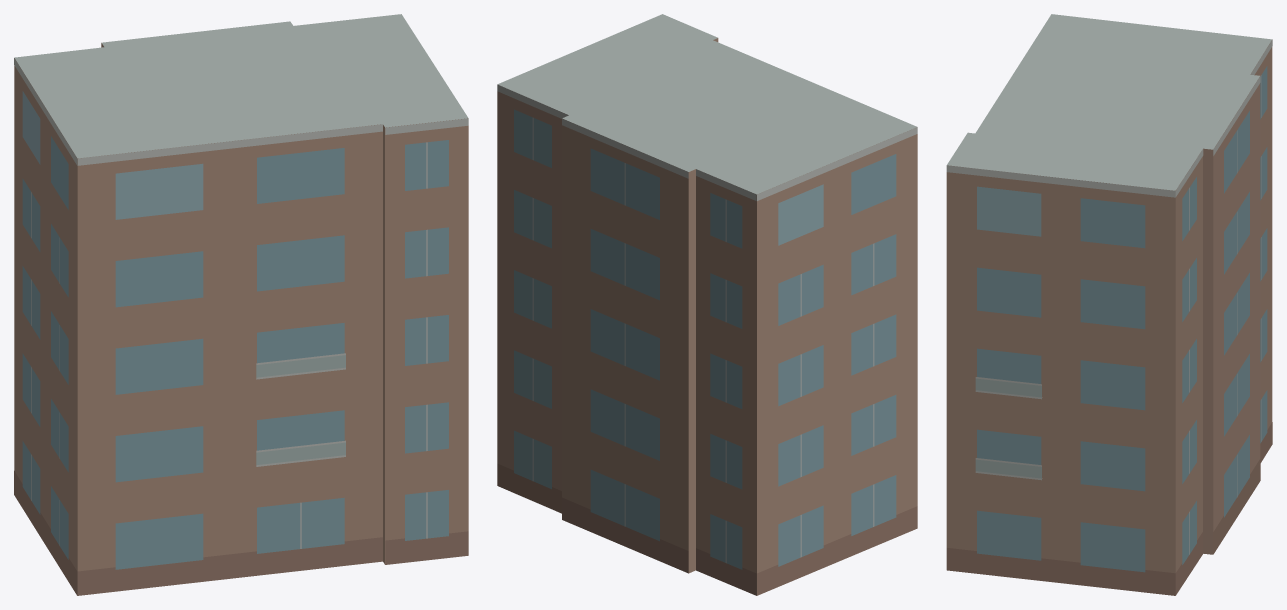
The model's file is survey-upis-33014024.glb.
3 renders of one model, left to right at view 1: azimuth 30°, elevation 25°; view 2: azimuth 150°, elevation 25°; view 3: azimuth 270°, elevation 25°, orthographic. The views are drawn at different scales.
Visible parts, largest first — view 1: survey-upis-33014024.tmp; view 2: survey-upis-33014024.tmp; view 3: survey-upis-33014024.tmp.
Part boxes in pixels (left/top/right/bottom): survey-upis-33014024.tmp: left=14, top=14, right=468, bottom=595; survey-upis-33014024.tmp: left=497, top=14, right=917, bottom=595; survey-upis-33014024.tmp: left=946, top=14, right=1272, bottom=595.
Size of the model in its own units: 13.49 by 14.4 by 10.5.
